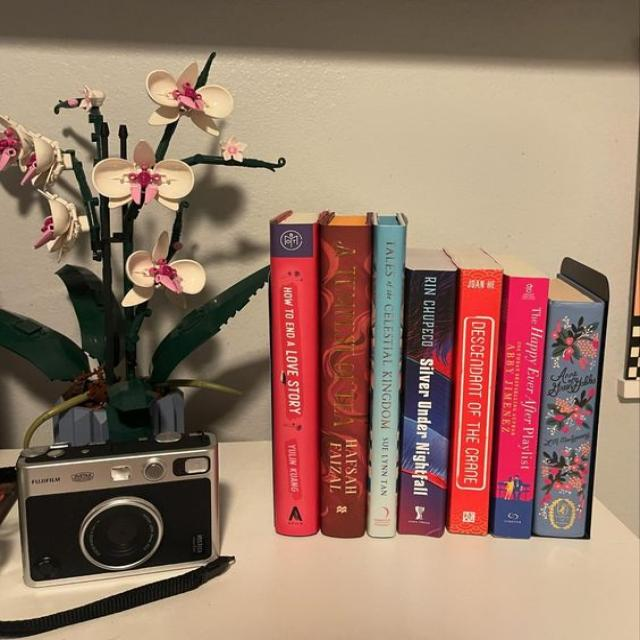book: (532, 274, 606, 537), (270, 212, 323, 536), (398, 248, 457, 537), (320, 215, 371, 537), (446, 251, 503, 535), (489, 274, 546, 538), (367, 213, 406, 538)
camera: (17, 433, 233, 596)
